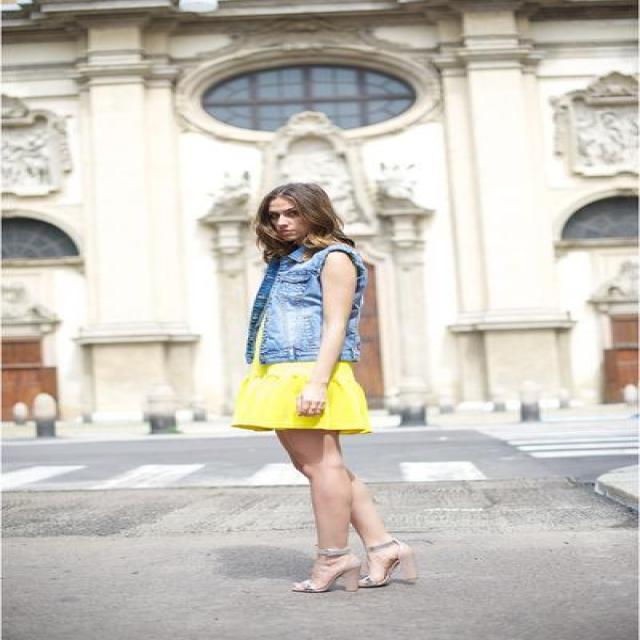jacket: (245, 250, 328, 362)
shoe: (293, 555, 421, 591)
skirt: (226, 346, 363, 431)
